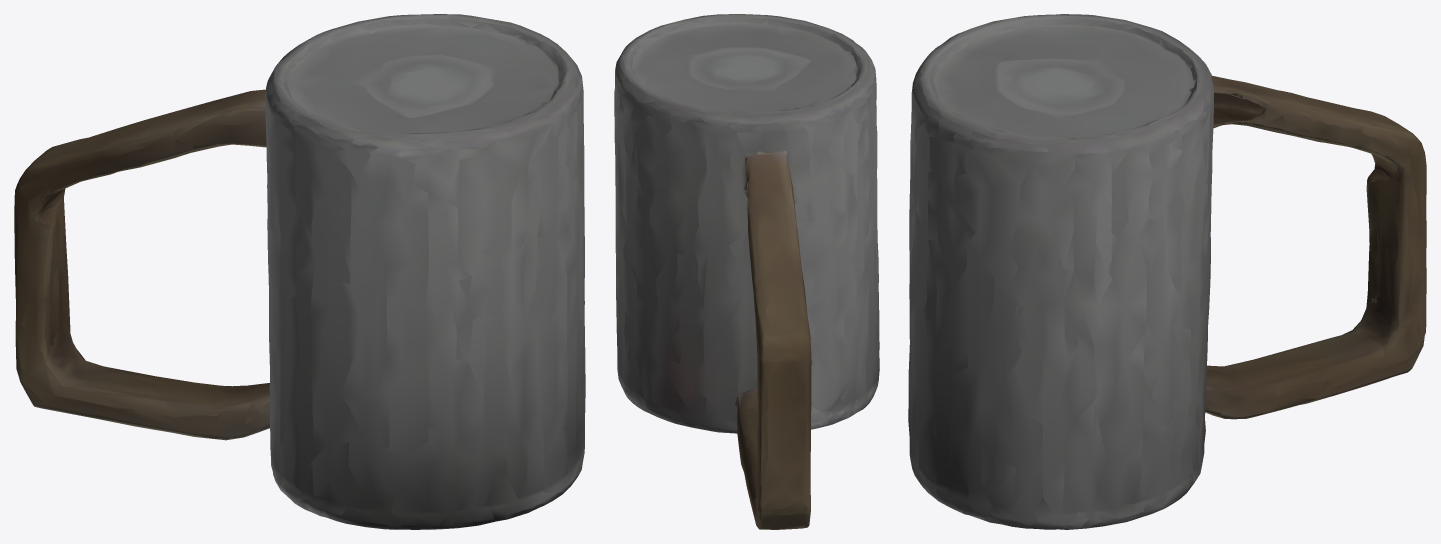
The model's file is 0002_mask_003_glass_cup.glb.
3 renders of one model, left to right at view 1: azimuth 30°, elevation 25°; view 2: azimuth 150°, elevation 25°; view 3: azimuth 270°, elevation 25°, orthographic. The views are drawn at different scales.
Parts seen in each view (by area): view 1: mask_003_object; view 2: mask_003_object; view 3: mask_003_object.
Boxes of the visible parts, x1=… form: mask_003_object: x1=14, y1=14, x2=585, y2=529; mask_003_object: x1=614, y1=14, x2=879, y2=529; mask_003_object: x1=908, y1=14, x2=1426, y2=529.
Bounding box in the file's own units: 0.1921 × 0.1877 × 0.2259.
